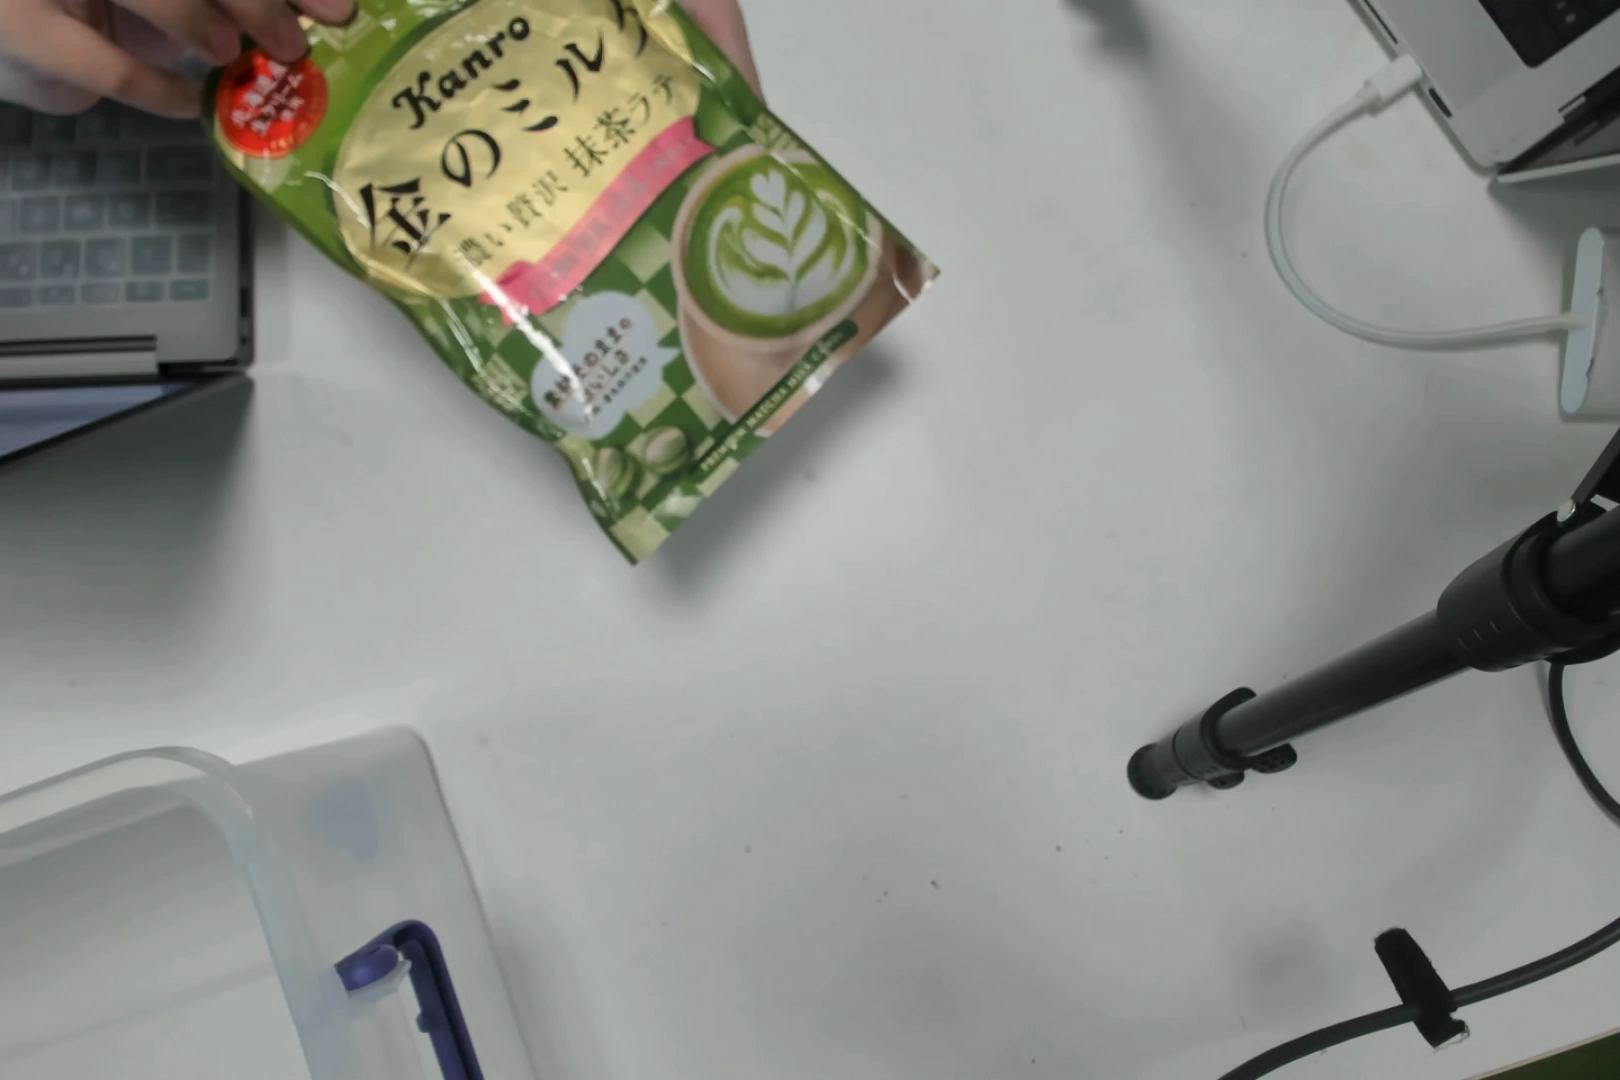SweetsChocolatesOthers_1-99g_NonHalal_NonHealthy: (374, 29, 888, 479)
